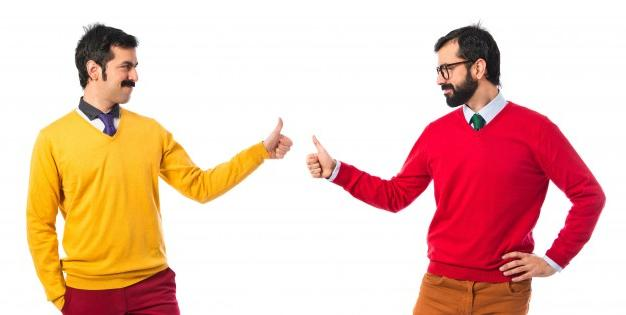thumbsup: (306, 134, 327, 177), (272, 117, 293, 159)
